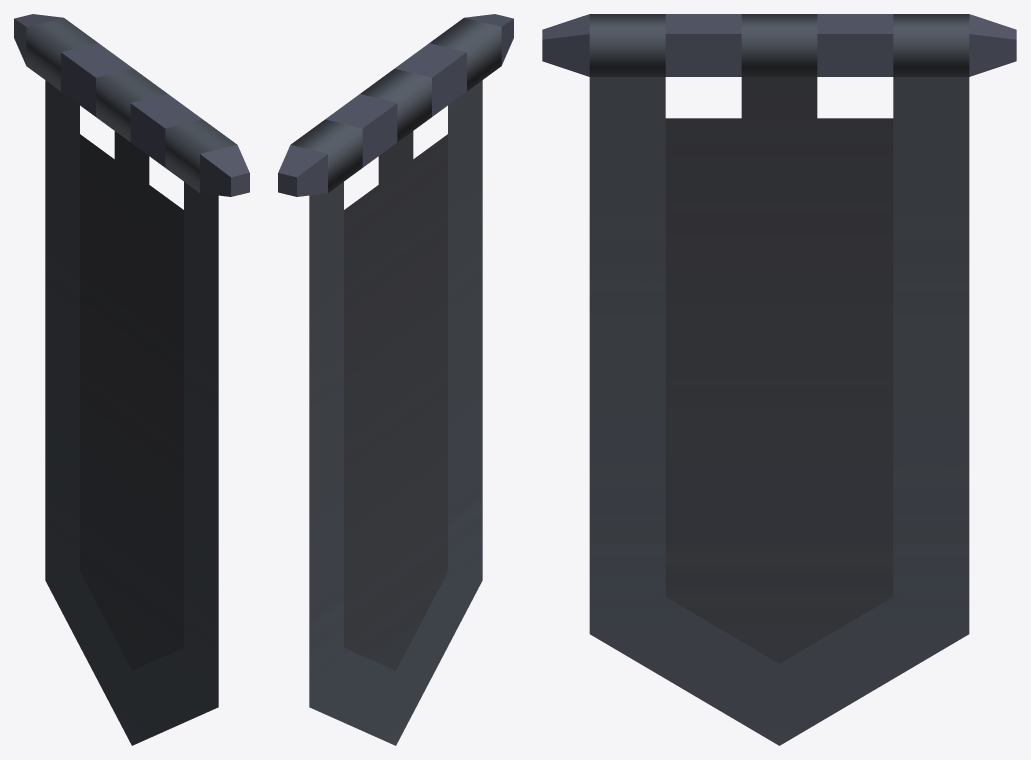
File: banner-red.glb
3 views of the same model, side by side, from view 1: azimuth 30°, elevation 25°; view 2: azimuth 150°, elevation 25°; view 3: azimuth 270°, elevation 25° (orthographic). The views are drawn at different scales.
Parts seen in each view (by area): view 1: banner-red; view 2: banner-red; view 3: banner-red.
Boxes of the visible parts, x1,y1,x2,y2 form: banner-red: (14, 14, 249, 745); banner-red: (278, 14, 513, 745); banner-red: (542, 14, 1016, 745).
Size of the model in its own units: 0.05 by 0.8394 by 0.5.
1 material, 1 textured.
